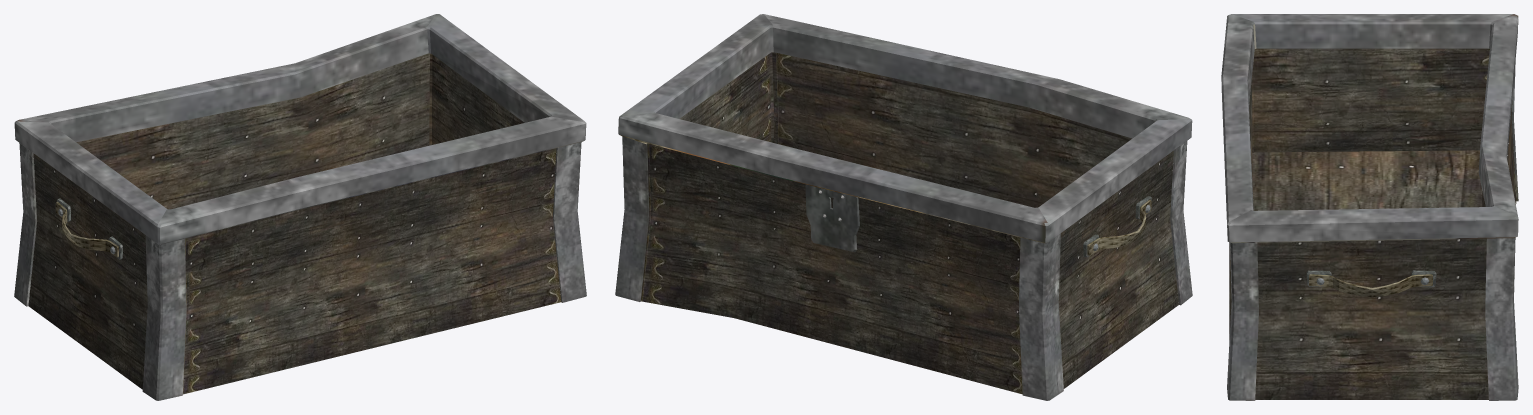
File: TW2_9_ADDONS_11_1_2-transformed.glb
The picture shows the model from 3 angles, left to right: view 1: azimuth 30°, elevation 25°; view 2: azimuth 150°, elevation 25°; view 3: azimuth 270°, elevation 25°; orthographic projection.
Parts seen in each view (by area): view 1: default; view 2: default; view 3: default.
Part boxes in pixels (x1=…): default: x1=14, y1=14, x2=586, y2=400; default: x1=615, y1=14, x2=1192, y2=400; default: x1=1221, y1=14, x2=1518, y2=400.
Size of the model in its own units: 1.32 by 0.4945 by 0.7299.
2 materials, 2 textured.
